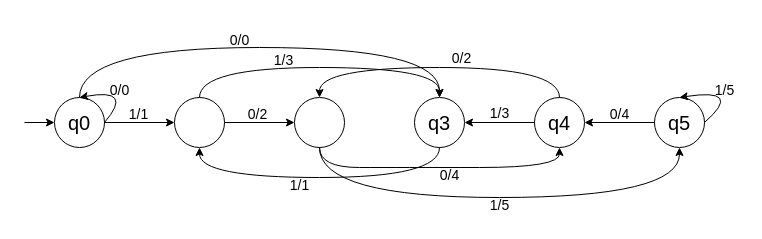
Image size: 762x239. Some labels were removed from this diagram. Here are the shapes that lost their labels. From the top down, the box of each, then its label:
(174, 96, 224, 148): q1
(294, 96, 344, 148): q2
